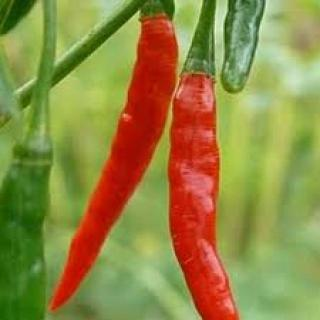Cabai Hijau: (1, 135, 55, 320)
Cabai Merah: (49, 12, 180, 313), (168, 72, 241, 320)
